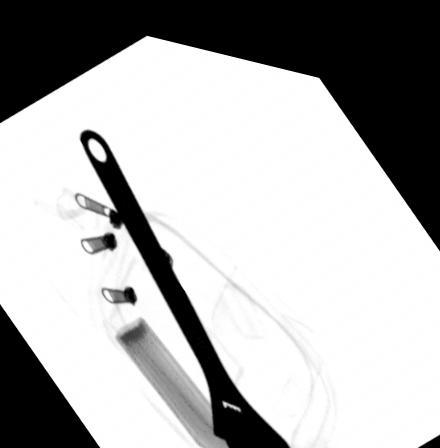Wrench: (79, 122, 298, 448)
